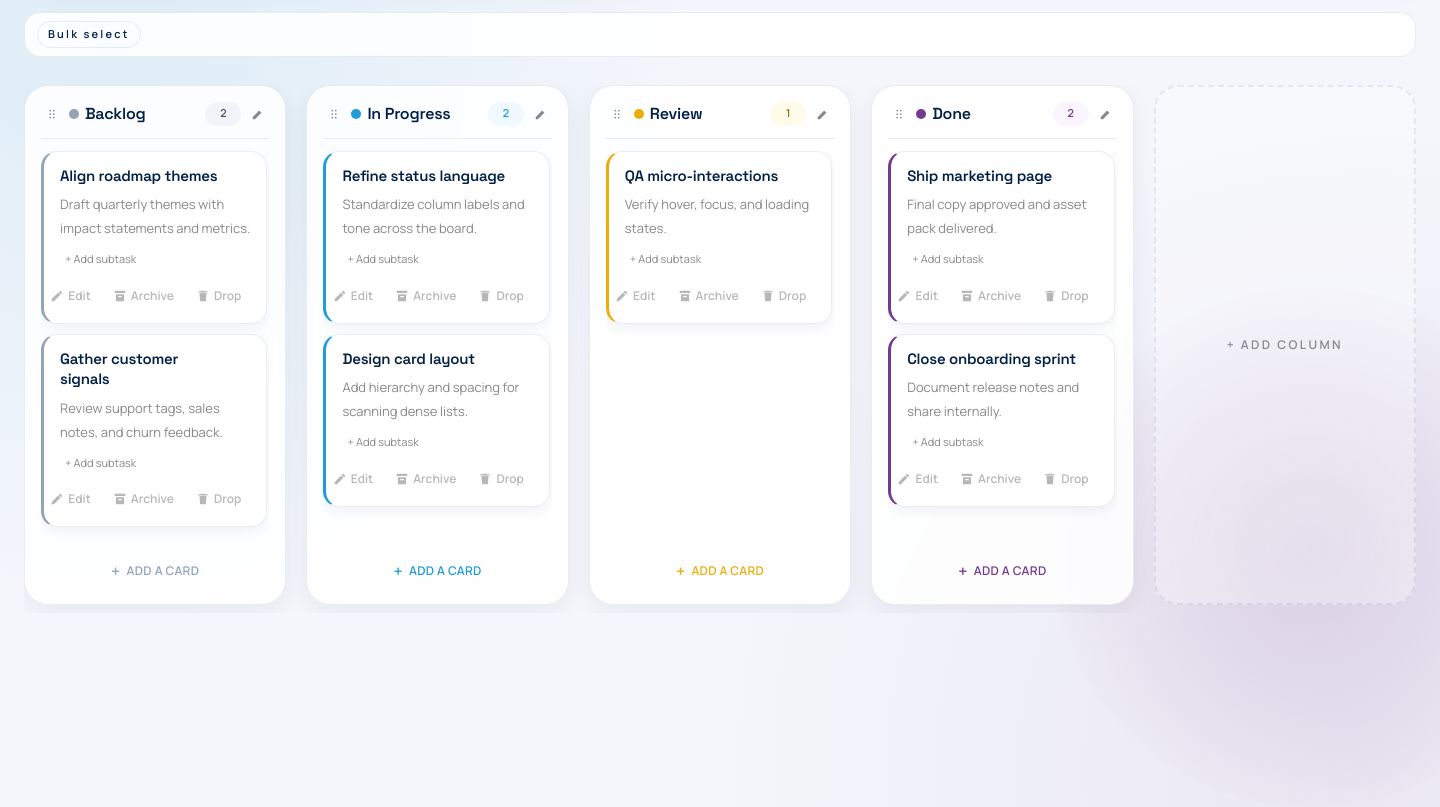
Scenario: KanbanBoard › adds and removes a card
(page scrolled)
Click the 1st button "+ Add a card" at (155, 570), box top-left (41, 554), bottom-right (269, 588)
(page scrolled)
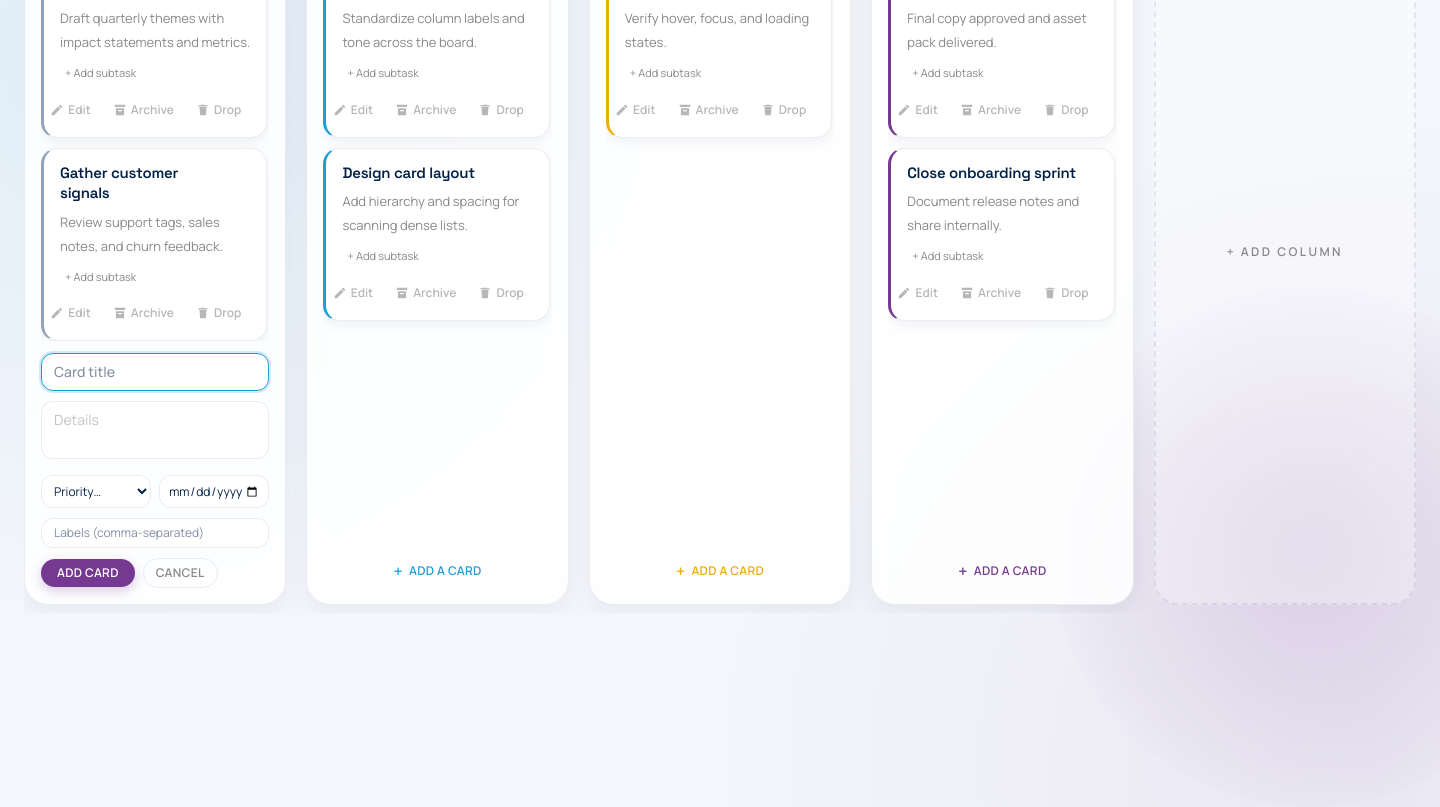
Type "New card" into the field with placeholder "Card title" at (155, 372), box top-left (41, 353), bottom-right (269, 391)
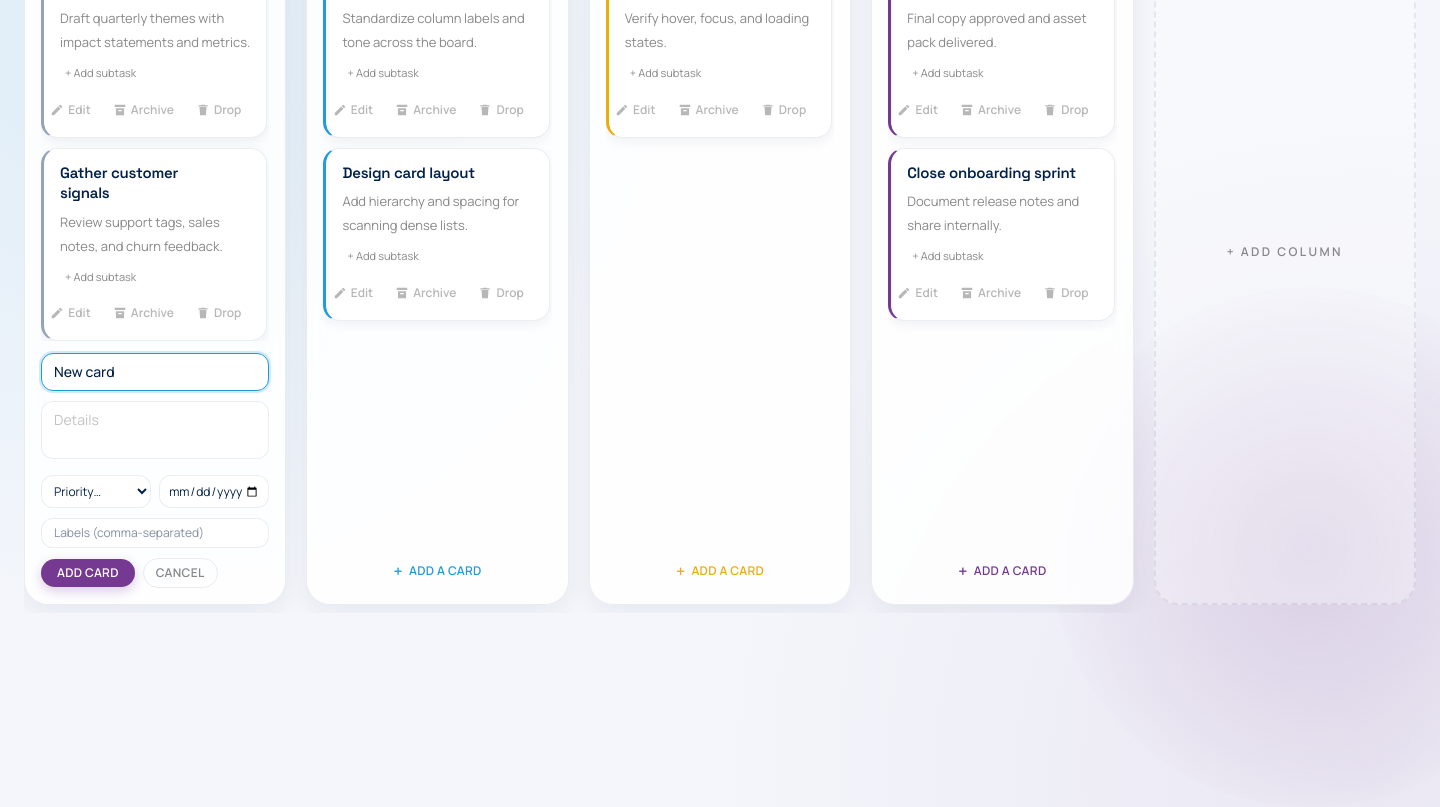
Type "Notes" into the text box with placeholder "Details" at (155, 430), box top-left (41, 401), bottom-right (269, 459)
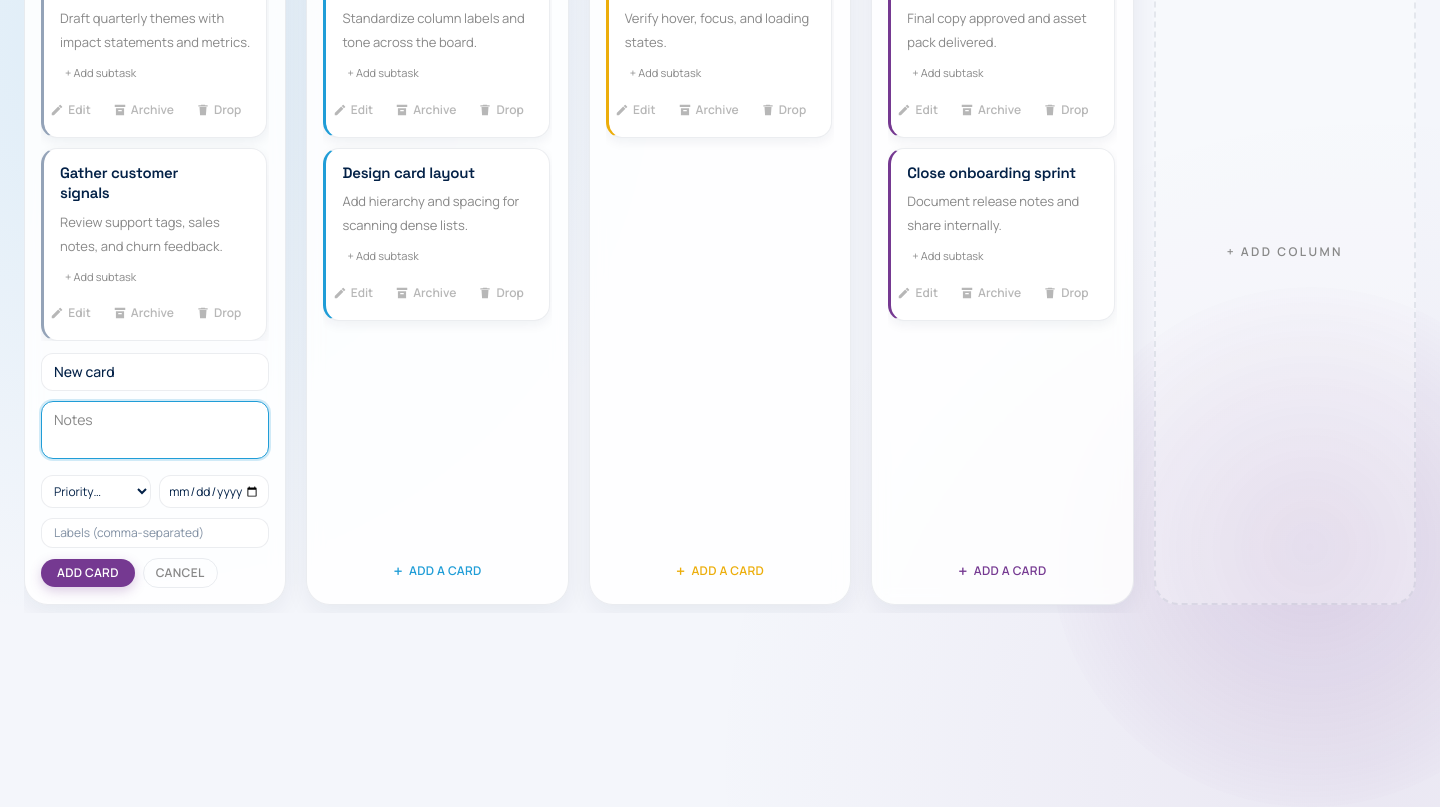
Click the button "Add card" at (88, 573), box top-left (41, 559), bottom-right (135, 587)
(page scrolled)
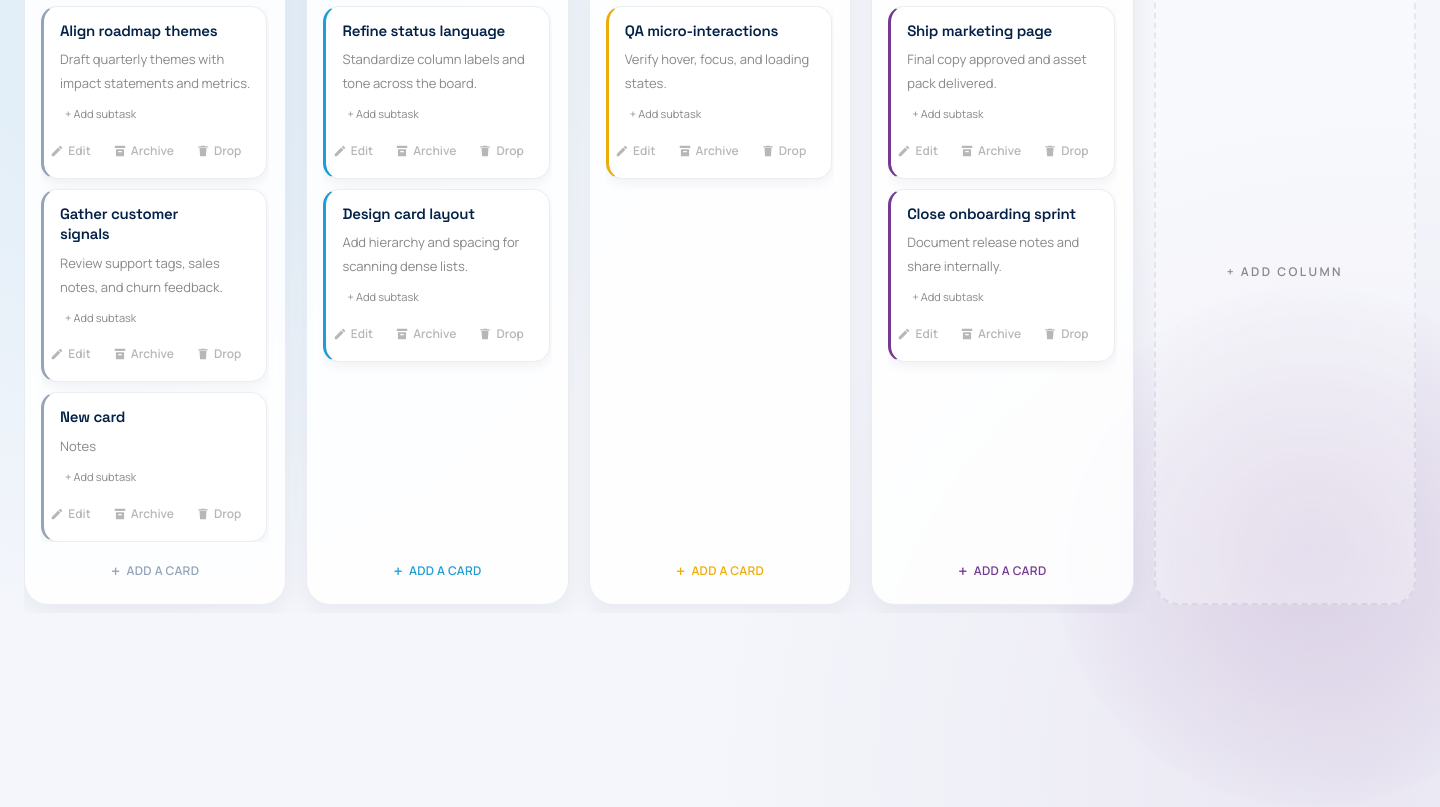
Expected: the button "New card" is shown, top-left (60, 407), bottom-right (125, 428)
Click the button with aria-label "drop new card" at (219, 514), box top-left (187, 500), bottom-right (250, 526)
(page scrolled)
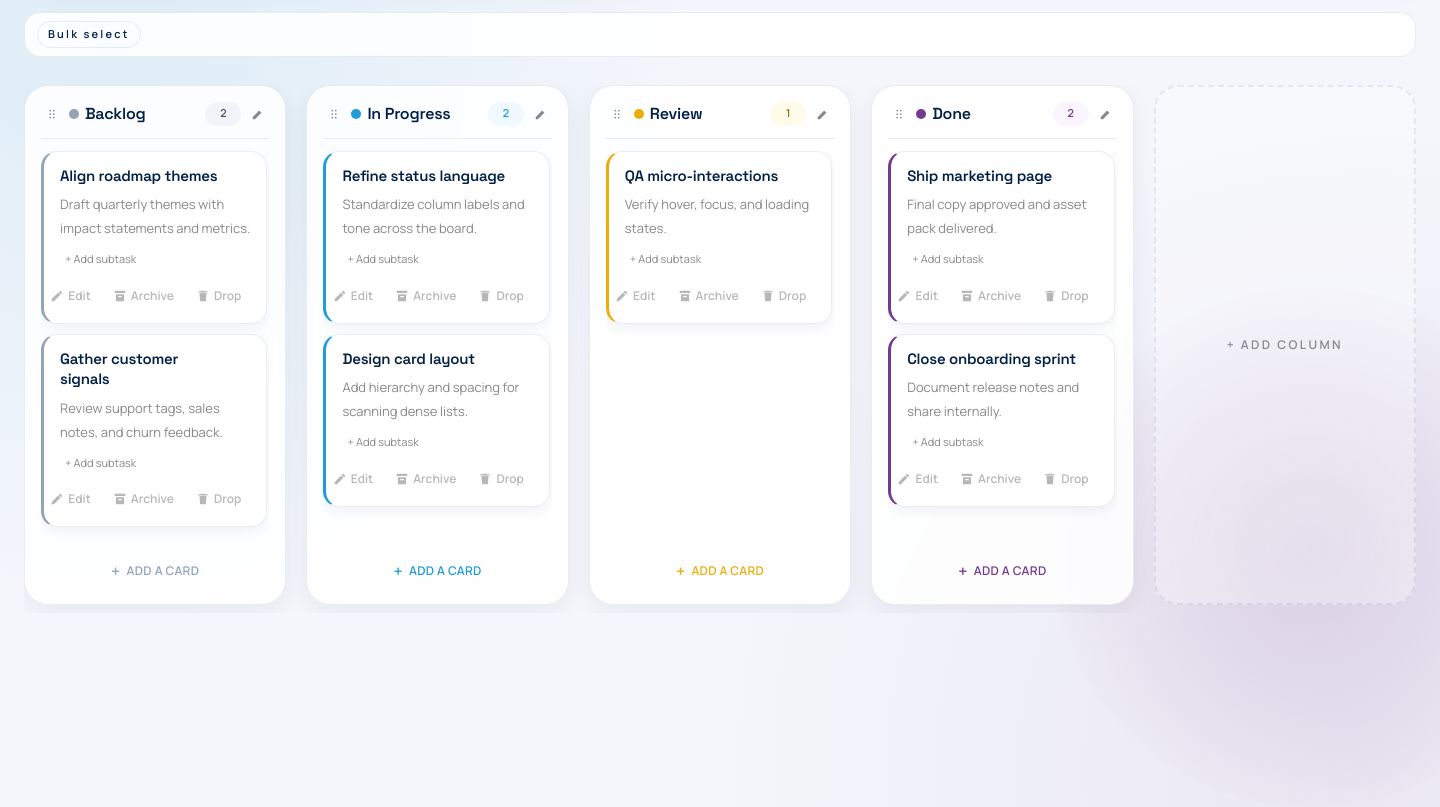
Expected: the button "New card" is gone
